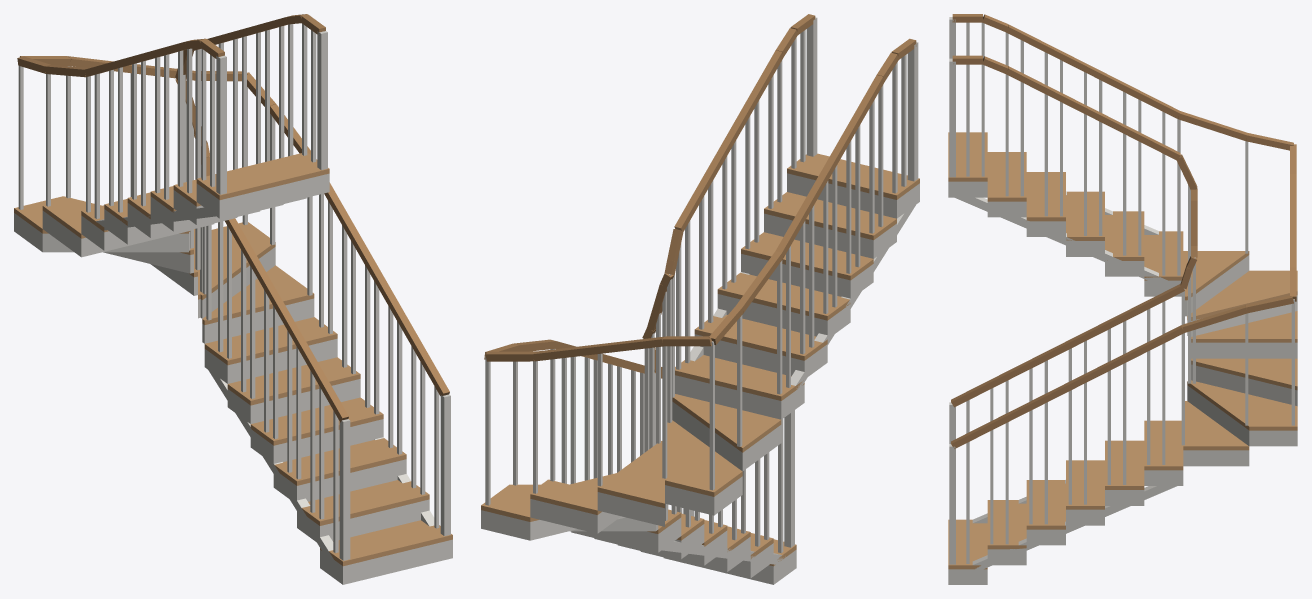
File: u_winder_stairs_right_157cm.glb
3 views of the same model, side by side, from view 1: azimuth 30°, elevation 25°; view 2: azimuth 150°, elevation 25°; view 3: azimuth 270°, elevation 25° (orthographic). The views are drawn at different scales.
Visible parts, largest first — view 1: upper_6_tread, lower_1_tread, upper_6_riser, lower_2_tread, lower_1_riser, lower_3_tread, lower_4_tread, lower_5_tread, lower_6_tread, winder_5_riser, lower_2_riser, lower_3_riser (+71 smaller); view 2: winder_5_tread, upper_1_tread, winder_4_tread, winder_6_tread, upper_1_riser, upper_5_tread, upper_2_tread, upper_3_tread, upper_4_tread, upper_6_tread, winder_6_riser, upper_3_riser (+66 smaller); view 3: winder_2_tread, winder_5_tread, upper_inner_string, winder_3_tread, winder_4_tread, winder_2_riser, winder_1_tread, upper_5_tread, lower_3_tread, lower_6_tread, lower_2_tread, upper_4_tread (+45 smaller).
Part boxes in pixels (left/top/right/bottom): upper_6_tread: left=196, top=153, right=329, bottom=199; lower_1_tread: left=320, top=520, right=452, bottom=566; upper_6_riser: left=196, top=173, right=329, bottom=218; lower_2_tread: left=302, top=480, right=429, bottom=525; lower_1_riser: left=320, top=539, right=452, bottom=584; lower_3_tread: left=274, top=438, right=406, bottom=485; lower_4_tread: left=250, top=397, right=383, bottom=445; lower_5_tread: left=227, top=357, right=360, bottom=405; lower_6_tread: left=204, top=317, right=337, bottom=365; winder_5_riser: left=14, top=213, right=190, bottom=252; lower_2_riser: left=297, top=499, right=429, bottom=541; lower_3_riser: left=273, top=459, right=406, bottom=501; winder_5_tread: left=665, top=420, right=742, bottom=496; upper_1_tread: left=675, top=355, right=804, bottom=400; winder_4_tread: left=597, top=441, right=664, bottom=508; winder_6_tread: left=672, top=394, right=781, bottom=452; upper_1_riser: left=675, top=375, right=804, bottom=419; upper_5_tread: left=764, top=192, right=896, bottom=240; upper_2_tread: left=694, top=315, right=827, bottom=360; upper_3_tread: left=717, top=273, right=850, bottom=320; upper_4_tread: left=741, top=232, right=873, bottom=280; upper_6_tread: left=787, top=153, right=919, bottom=199; winder_6_riser: left=672, top=401, right=781, bottom=471; upper_3_riser: left=717, top=294, right=850, bottom=338; winder_2_tread: left=1187, top=380, right=1297, bottom=430; winder_5_tread: left=1187, top=270, right=1297, bottom=320; upper_inner_string: left=949, top=190, right=1177, bottom=289; winder_3_tread: left=1191, top=358, right=1297, bottom=390; winder_4_tread: left=1191, top=311, right=1297, bottom=342; winder_2_riser: left=1187, top=385, right=1297, bottom=446; winder_1_tread: left=1183, top=401, right=1249, bottom=450; upper_5_tread: left=987, top=152, right=1026, bottom=201; lower_3_tread: left=1026, top=480, right=1065, bottom=529; lower_6_tread: left=1144, top=420, right=1183, bottom=470; lower_2_tread: left=987, top=500, right=1026, bottom=549; upper_4_tread: left=1026, top=172, right=1065, bottom=221.
Bounding box in the file's own units: 1.57 × 3.6 × 2.4.
